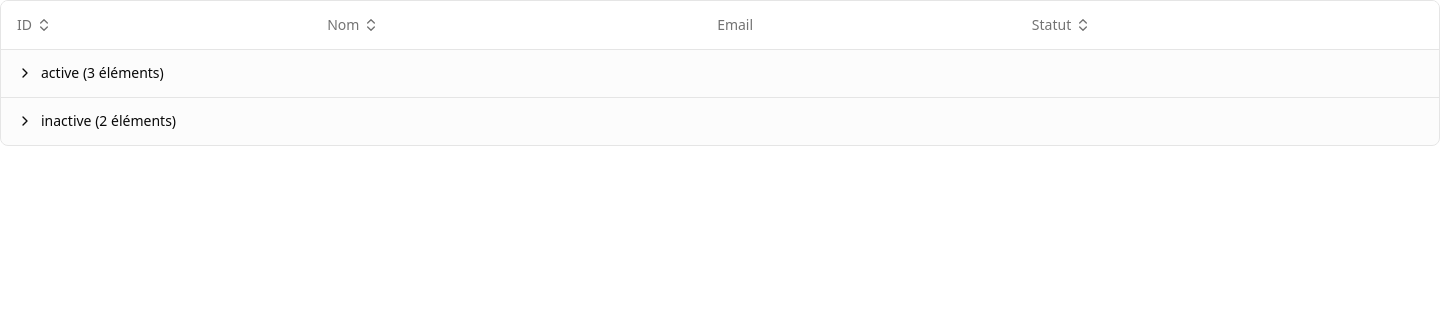
Test: DataTable - Grouping Functionality › Accordion mode › works correctly with defaultExpanded false in accordion mode
Check: the text "inactive (2 éléments)" is shown, box [41,111,176,131]
Check: the text "Alice" is not shown
Ouvrir le premier groupe
Click the text "active (3 éléments)": (102, 73) [41,63,164,83]
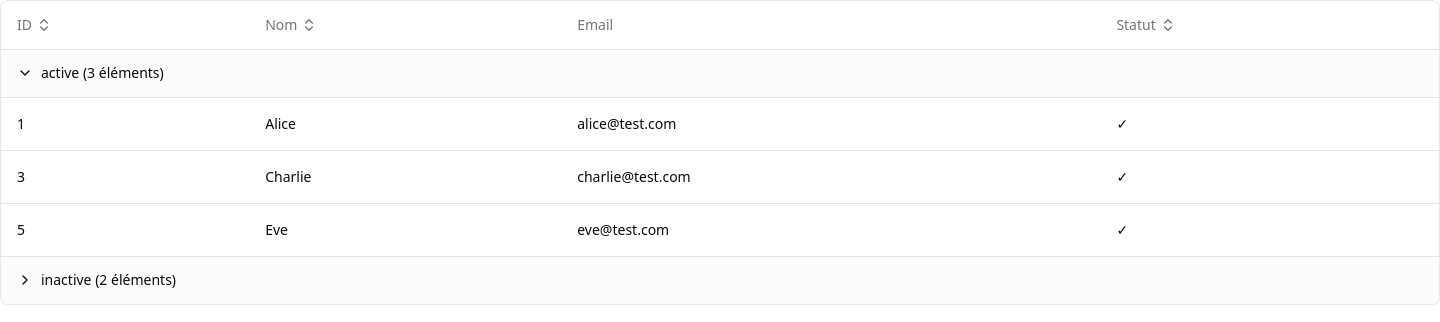
Check: the text "Alice" is shown, box [249,97,561,150]
Ouvrir le deuxième groupe - le premier devrait se fermer
Click the text "inactive (2 éléments)": (108, 280) [41,270,176,290]
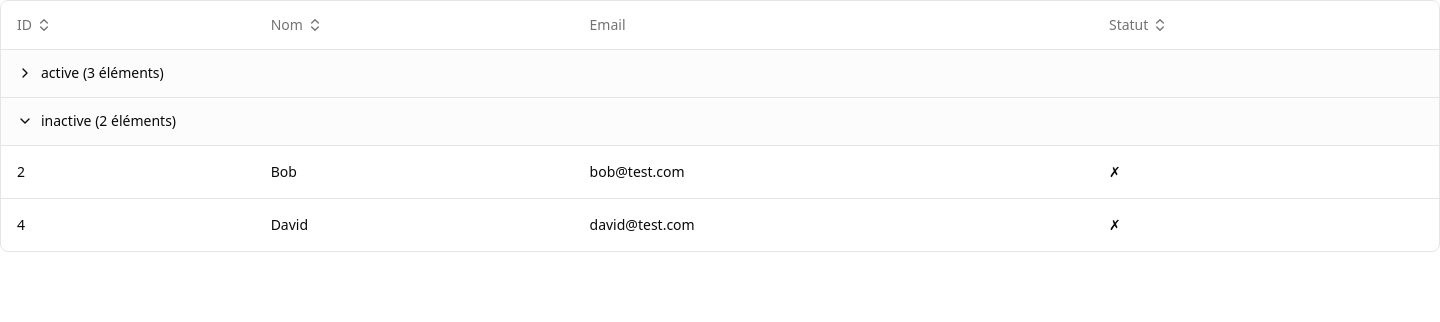
Check: the text "Bob" is shown, box [255,145,574,198]
Check: the text "Alice" is gone
